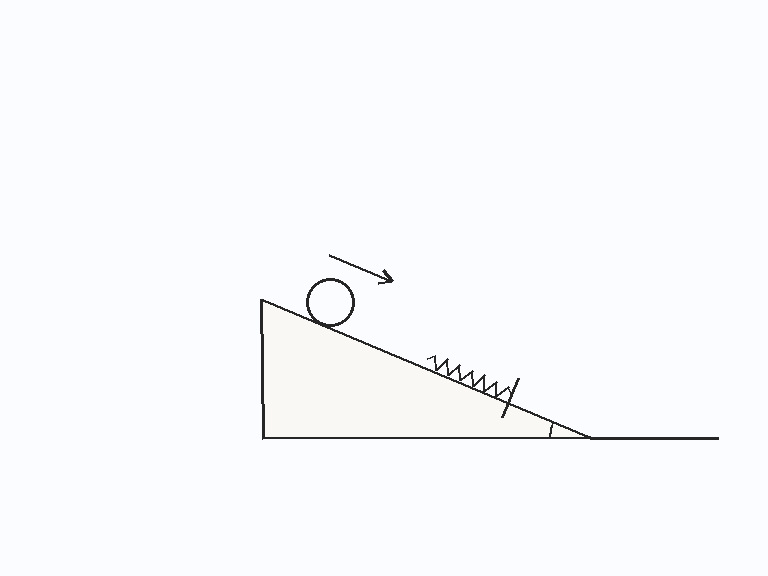ball: (304, 276, 356, 328)
ramp: (260, 297, 592, 440)
spring: (424, 353, 514, 398)
